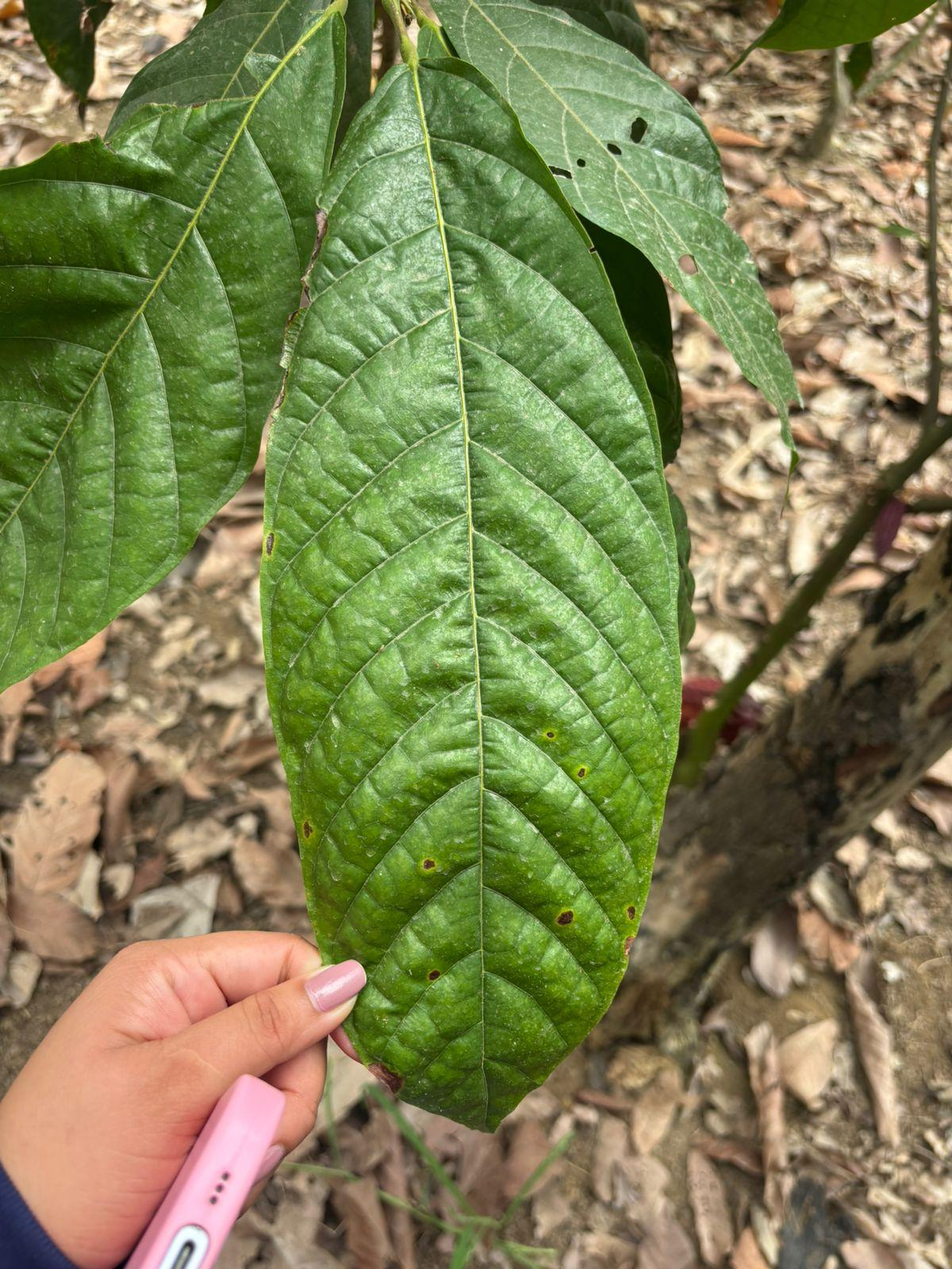deficienciia_fosforo: (261, 59, 679, 1129)
